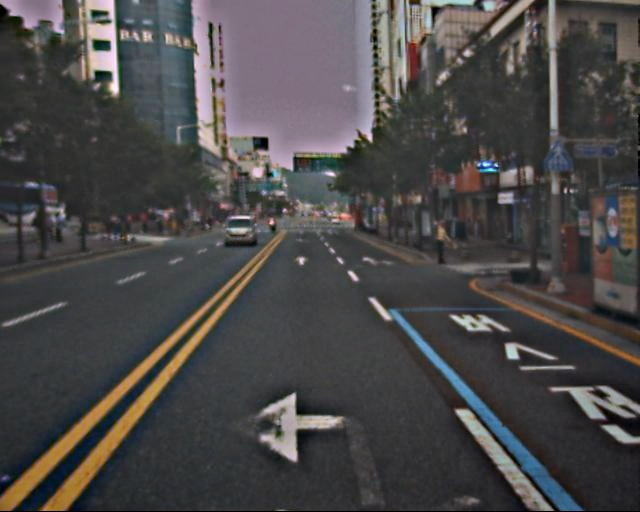person: (430, 217, 451, 271)
